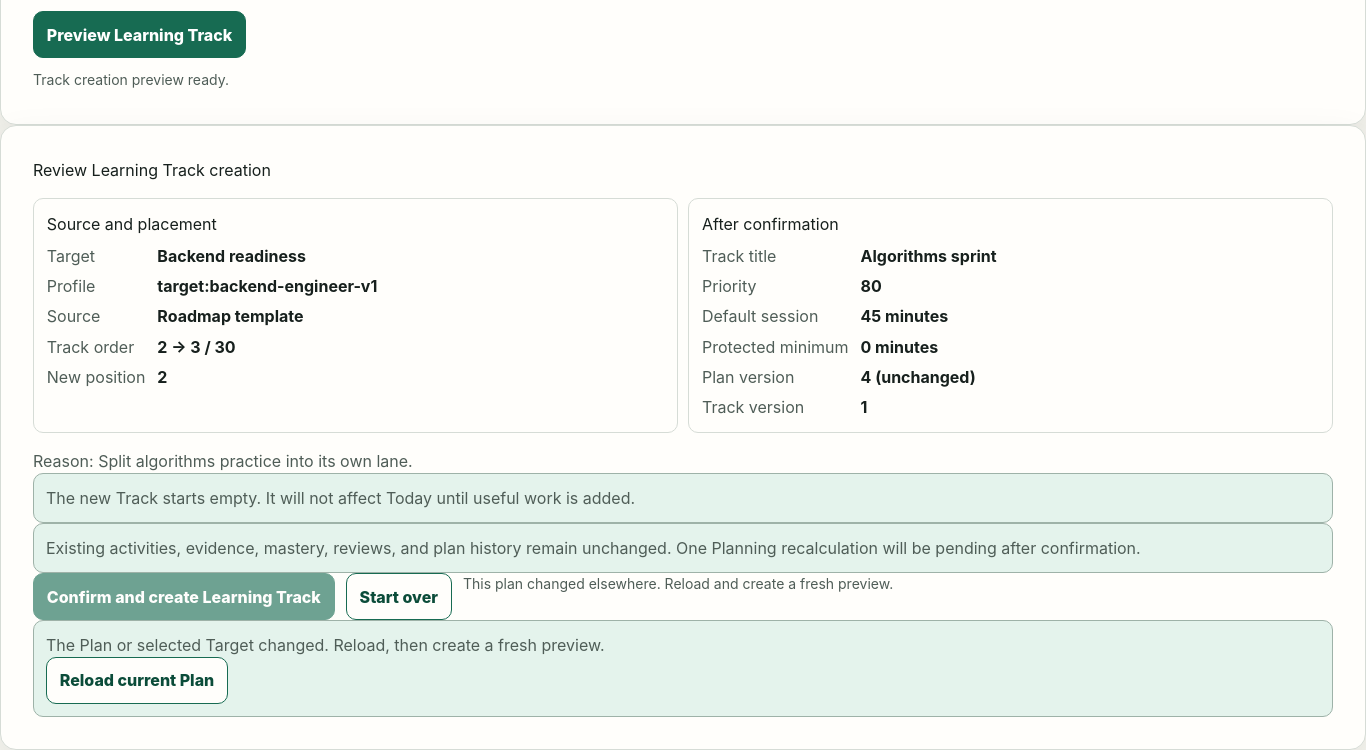
LearningTrackCreation › offers an explicit stale reload and clears the old confirmation
(page scrolled)
What coordinates should you click on to do the following:
click the button "Reload current Plan"
I would click on:
 (137, 680)
Its box is [46,657,228,704].
(page scrolled)
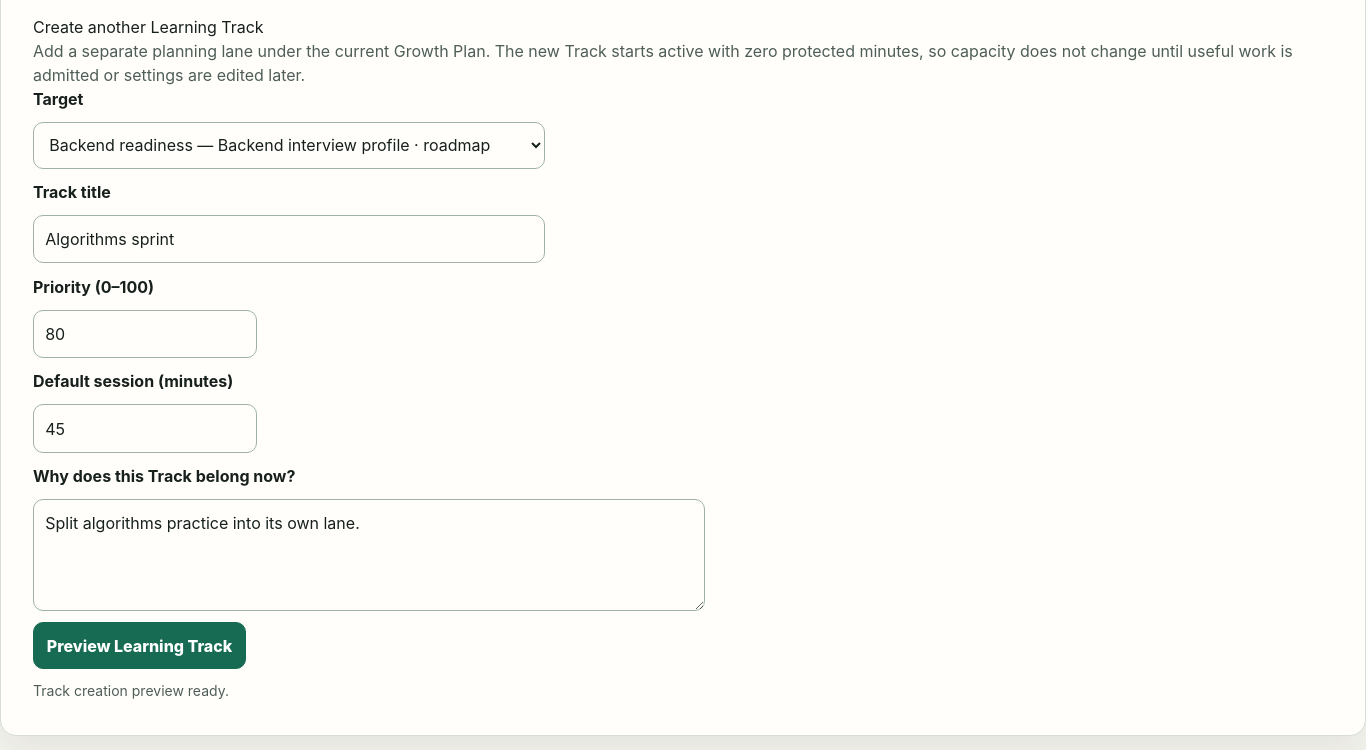
Expected: the button "Confirm and create Learning Track" is gone
